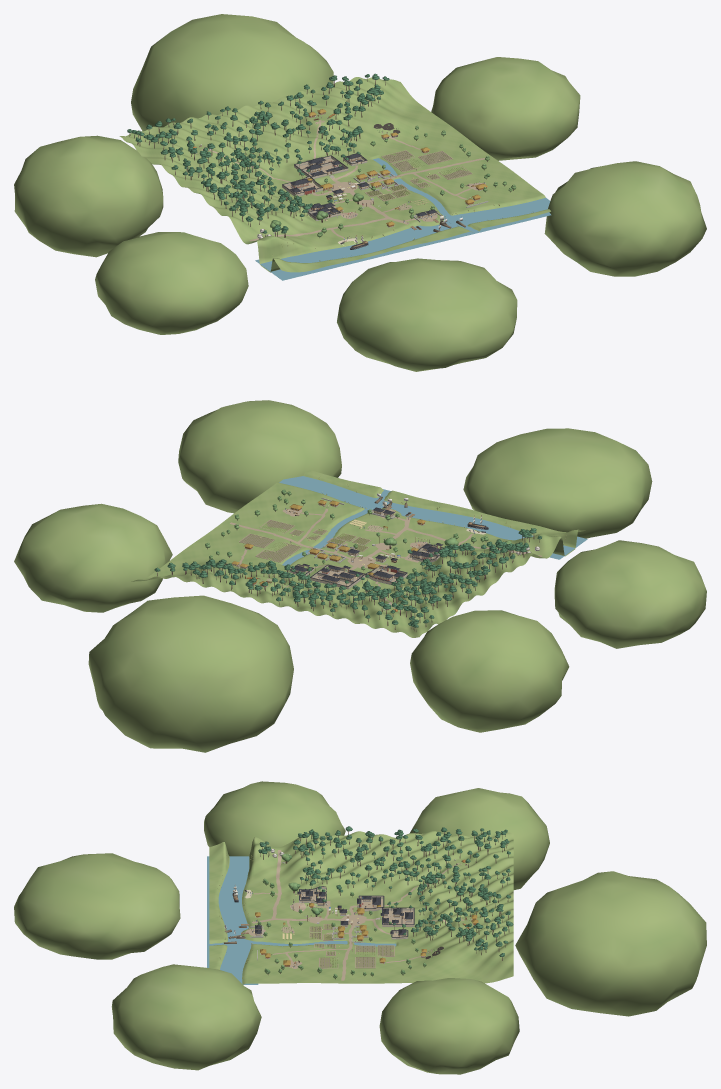
Rendered from joseon_late.glb.
3 renders of one model, top to bottom at view 1: azimuth 30°, elevation 25°; view 2: azimuth 150°, elevation 25°; view 3: azimuth 270°, elevation 25°, orthographic. The views are drawn at different scales.
Visible parts, largest first — view 1: static_grass, static_pine, static_water, static_dirt, static_bark, static_tile, static_paddy, static_rice, static_leaf2, static_thatch; view 2: static_grass, static_pine, static_water, static_dirt, static_tile, static_bark, static_paddy, static_rice, static_leaf2, static_thatch; view 3: static_grass, static_pine, static_water, static_dirt, static_bark, static_tile, static_paddy, static_rice, static_leaf2, static_thatch.
Part boxes in pixels (x1,y1,x2,y2): static_grass: (14,14,706,371); static_pine: (127,73,389,233); static_water: (255,158,551,280); static_dirt: (201,120,485,241); static_bark: (129,78,467,237); static_tile: (282,153,437,218); static_paddy: (366,151,471,200); static_rice: (287,151,531,260); static_leaf2: (270,126,516,237); static_thatch: (308,109,487,225); static_grass: (14,400,706,752); static_pine: (154,528,541,627); static_water: (279,476,587,565); static_dirt: (230,508,541,607); static_tile: (289,507,443,586); static_bark: (157,515,534,631); static_paddy: (240,520,369,561); static_rice: (241,484,565,564); static_leaf2: (205,489,512,574); static_thatch: (231,500,425,584); static_grass: (14,781,706,1074); static_pine: (258,826,513,956); static_water: (207,856,396,984); static_dirt: (245,850,463,980); static_bark: (260,831,509,961); static_tile: (255,886,414,937); static_paddy: (310,924,393,968); static_rice: (219,855,393,967); static_leaf2: (257,853,426,978); static_thatch: (255,902,478,964).
Bounding box in the file's own units: 513 × 114 × 592.
60 materials, 6 textured.
